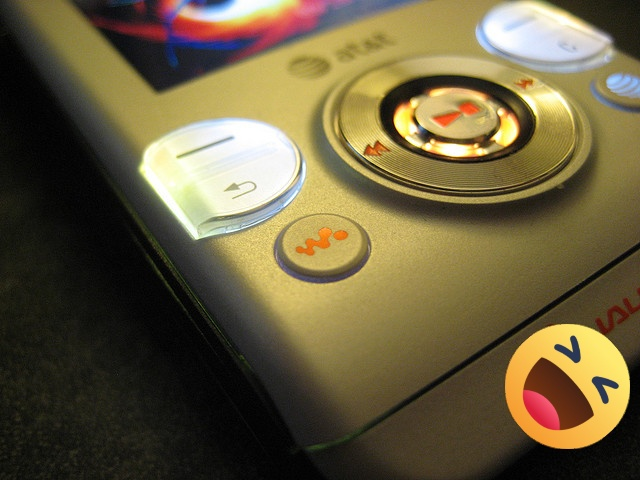haha: (505, 324, 630, 449)
